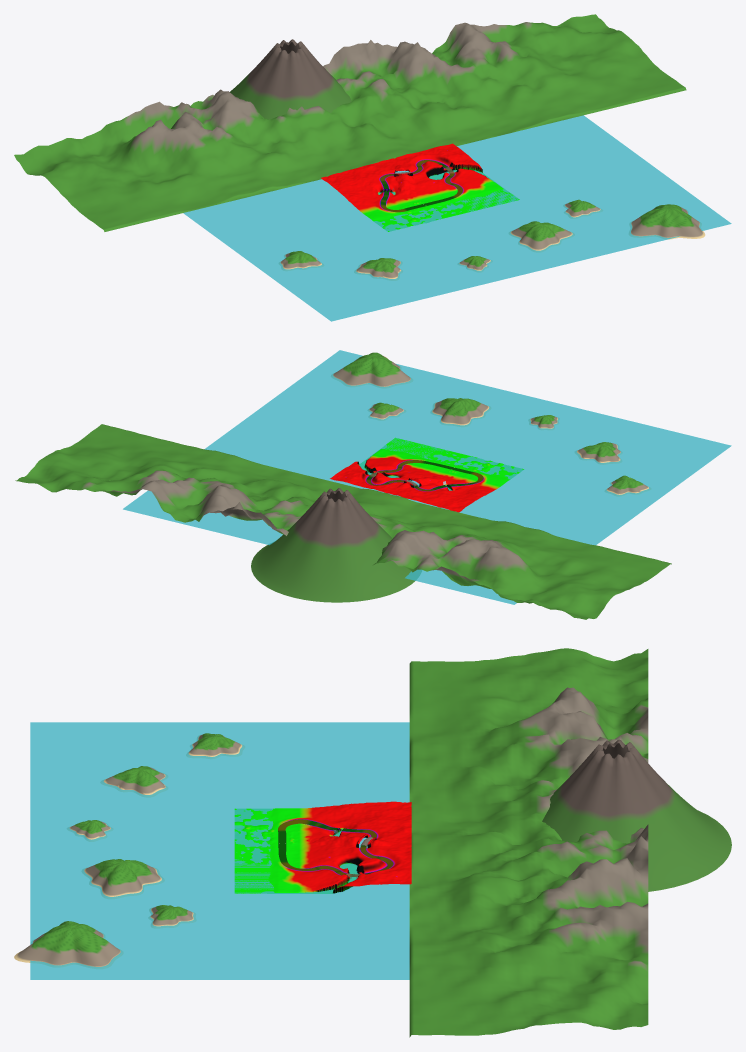
File: coconut_bay.glb
3 renders of one model, top to bottom at view 1: azimuth 30°, elevation 25°; view 2: azimuth 150°, elevation 25°; view 3: azimuth 270°, elevation 25°, orthographic. The views are drawn at different scales.
Visible parts, largest first — view 1: Backdrop, Water, Terrain, Road; view 2: Backdrop, Water, Terrain, Road; view 3: Backdrop, Water, Terrain, Road.
Boxes of the visible parts, <box> form: Backdrop: <box>14,14,705,280</box>; Water: <box>183,115,731,321</box>; Terrain: <box>321,143,519,231</box>; Road: <box>380,160,462,212</box>; Backdrop: <box>15,352,671,619</box>; Water: <box>123,350,731,604</box>; Terrain: <box>330,437,523,512</box>; Road: <box>366,460,483,491</box>; Backdrop: <box>14,648,731,1037</box>; Water: <box>30,722,409,979</box>; Terrain: <box>234,801,411,893</box>; Road: <box>278,819,393,876</box>.
Size of what is drawn, in the model's own units: 2600 by 317 by 2108.
